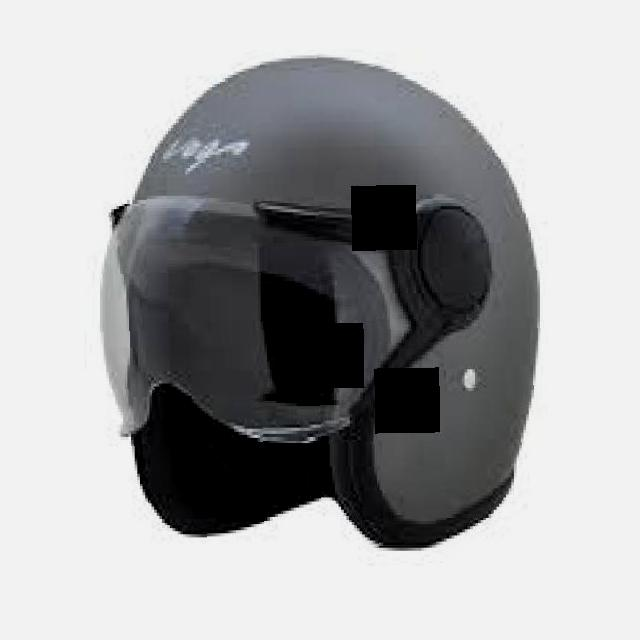helmet: (96, 52, 542, 550)
